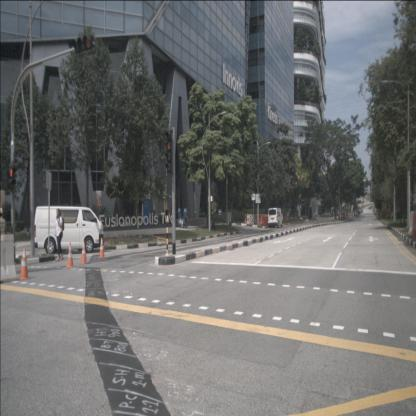barrier: (0, 234, 17, 283), (408, 210, 414, 236), (262, 214, 272, 227), (412, 211, 416, 239), (244, 214, 254, 225), (258, 214, 267, 226), (255, 214, 264, 225)
cone: (18, 247, 30, 280), (78, 240, 90, 265), (66, 242, 75, 269), (98, 237, 106, 259), (180, 217, 184, 227)
